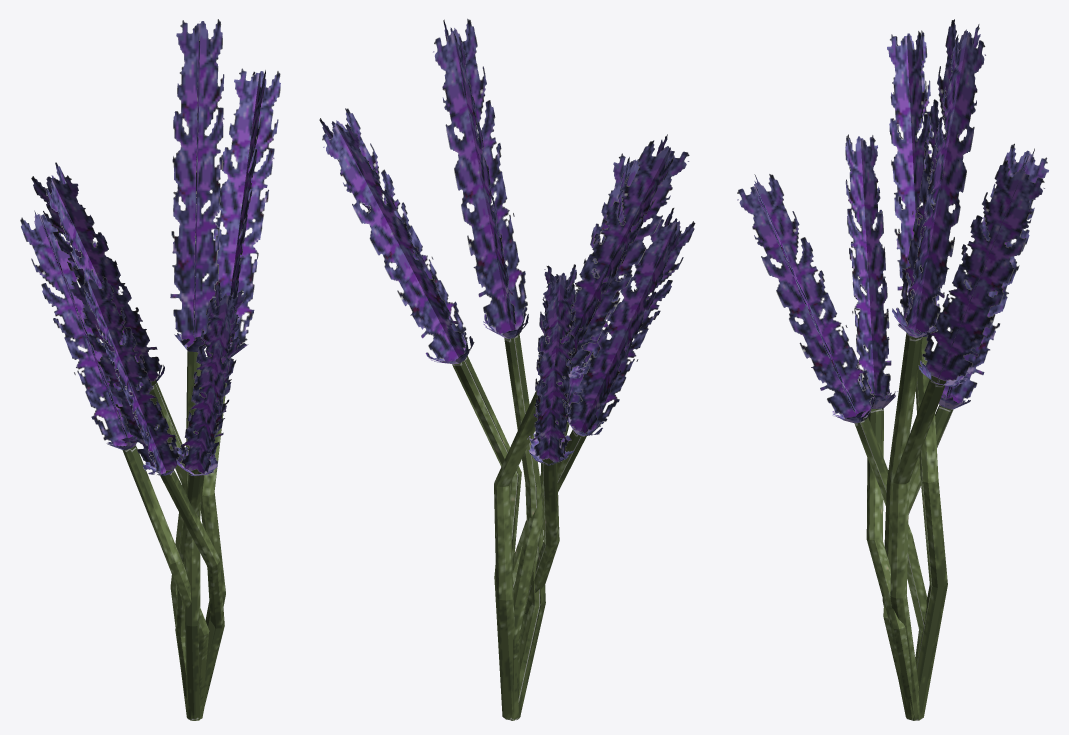
The model's file is SM_Dungeon_Lavender_Cluster.fbx.
The picture shows the model from 3 angles, left to right: view 1: azimuth 30°, elevation 25°; view 2: azimuth 150°, elevation 25°; view 3: azimuth 270°, elevation 25°; orthographic projection. The views are drawn at different scales.
Parts seen in each view (by area): view 1: LavenderCluster; view 2: LavenderCluster; view 3: LavenderCluster.
Boxes of the visible parts, x1,y1,x2,y2 form: LavenderCluster: (20, 19, 280, 720); LavenderCluster: (319, 18, 695, 720); LavenderCluster: (737, 19, 1048, 720).
Bounding box in the file's own units: 31.37 × 66.95 × 27.6.
